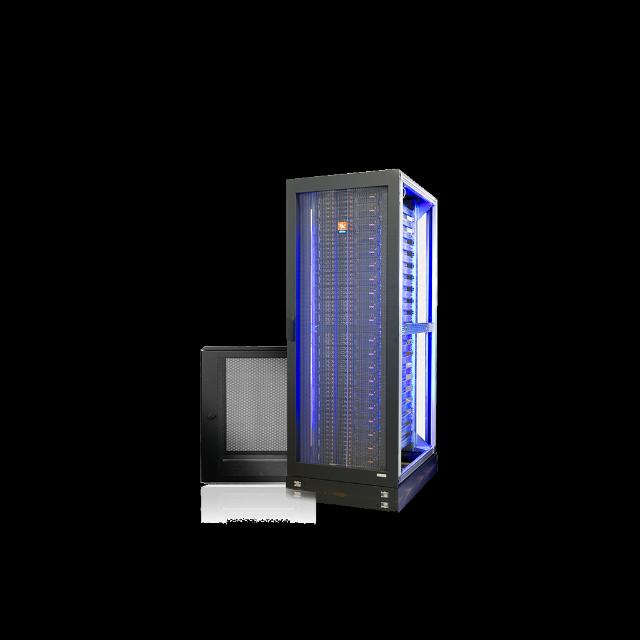Server: (293, 184, 399, 499)
